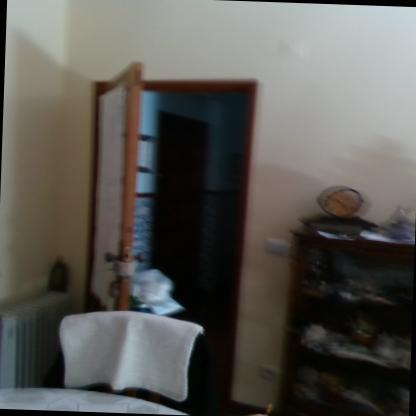semi: (70, 53, 265, 406)
